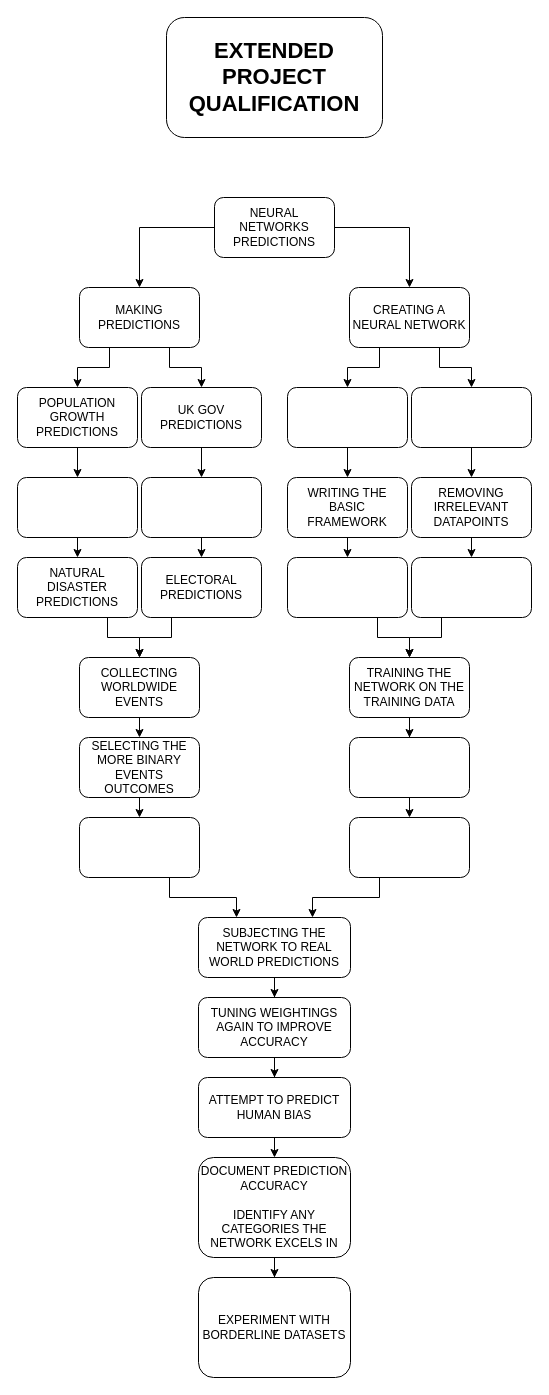
Image size: 549x1395. Some labels were removed from this diagram. Each missing label, with the centre of its shape:
"ASSIGNING WEIGHTINGS TO DATAPOINTS" goes at point 471,587.
"COLLECTING TRAINING DATA" goes at point 471,417.
"COMPILING TABLE OF TRIAL DATA AND REAL WORLD DATA" goes at point 139,847.
"CREATING AN INPUT STREAM AND AN OUTPUT STREAM" goes at point 347,587.
"DESIGNING A MODEL" goes at point 347,417.
"IMMIGRATION PREDICTIONS" goes at point 77,507.
"MARKET PREDICTIONS" goes at point 201,507.
"SUBJECTING THE NETWORK TO TRIAL DATA" goes at point 409,767.
"TUNING THE WEIGHTINGS FOR MORE ACCURATE PREDICTIONS" goes at point 409,847.
